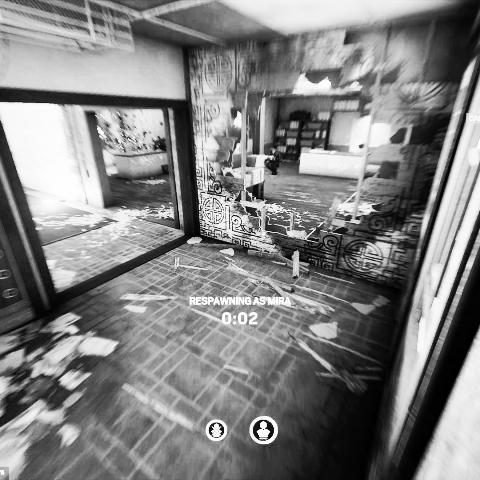Character: (264, 148, 284, 176)
Head: (270, 149, 276, 156)
